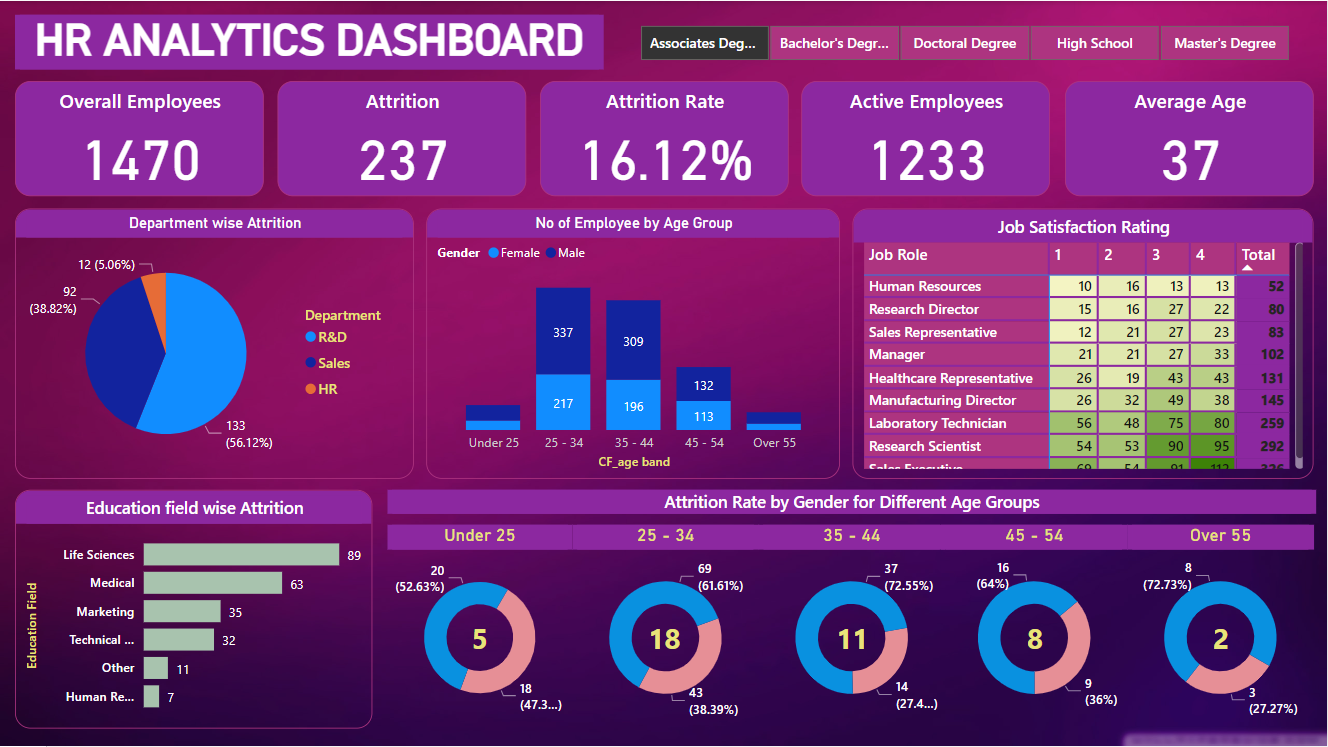

The page's visual inventory and layout, read from the dashboard file:
{"tool":"powerbi","page":{"name":"Page 1","canvas":[1280,720],"ordinal":0},"visuals":[{"type":"card","title":"Overall Employees","fields":{"Values":["Sum(HR data.Employee Count)"]},"box":[14.5,77.2,240,111],"z":0},{"type":"card","title":"Attrition","fields":{"Values":["Sum(HR data.AttritionCount)"]},"box":[267.7,77.2,240,111],"z":1},{"type":"card","title":"Attrition Rate","fields":{"Values":["HR data.Attrition Rate"]},"box":[521,77.2,240,111],"z":2},{"type":"card","title":"Active Employees","fields":{"Values":["HR data.Active Employees"]},"box":[773.1,77.2,240,111],"z":3},{"type":"card","title":"Average Age","fields":{"Values":["Avg(HR data.Age)"]},"box":[1027.5,77.2,240,111],"z":4},{"type":"pieChart","title":"Department wise Attrition","fields":{"Category":["HR data.Department"],"Y":["Sum(HR data.AttritionCount)"]},"box":[14.5,200.2,384.7,260.5],"z":5},{"type":"columnChart","title":"No of Employee by Age Group","fields":{"Category":["HR data.CF_age band"],"Y":["Sum(HR data.Employee Count)"],"Series":["HR data.Gender"]},"box":[411.3,200.2,399.2,260.5],"z":6},{"type":"pivotTable","title":"Job Satisfaction Rating","fields":{"Rows":["HR data.Job Role"],"Columns":["HR data.Job Satisfaction"],"Values":["Sum(HR data.Employee Count)"]},"box":[822.5,200.2,445,260.5],"z":7},{"type":"barChart","title":"Education field wise Attrition","fields":{"Category":["HR data.Education Field"],"Y":["Sum(HR data.AttritionCount)"]},"box":[14.5,471.6,344.9,230.4],"z":8},{"type":"donutChart","title":"Under 25","fields":{"Category":["HR data.Gender"],"Y":["Sum(HR data.AttritionCount)"],"Series":["HR data.CF_age band"]},"box":[373.9,505.3,178.5,199],"z":9},{"type":"textbox","title":"Attrition Rate by Gender for Different Age Groups","box":[373.9,471.6,896.1,22.9],"z":10},{"type":"donutChart","title":"25 - 34","fields":{"Category":["HR data.Gender"],"Y":["Sum(HR data.AttritionCount)"],"Series":["HR data.CF_age band"]},"box":[552.4,505.3,179.7,199],"z":11},{"type":"donutChart","title":"35 - 44","fields":{"Category":["HR data.Gender"],"Y":["Sum(HR data.AttritionCount)"],"Series":["HR data.CF_age band"]},"box":[732.1,505.3,179.7,199],"z":12},{"type":"donutChart","title":"45 - 54","fields":{"Category":["HR data.Gender"],"Y":["Sum(HR data.AttritionCount)"],"Series":["HR data.CF_age band"]},"box":[908.1,505.3,179.7,199],"z":13},{"type":"donutChart","title":"Over 55","fields":{"Category":["HR data.Gender"],"Y":["Sum(HR data.AttritionCount)"],"Series":["HR data.CF_age band"]},"box":[1087.8,505.3,179.7,199],"z":14},{"type":"card","fields":{"Values":["Sum(HR data.AttritionCount)"]},"box":[442.6,595.8,41,39.8],"z":15},{"type":"card","fields":{"Values":["Sum(HR data.AttritionCount)"]},"box":[609,595.8,63.9,39.8],"z":16},{"type":"card","fields":{"Values":["Sum(HR data.AttritionCount)"]},"box":[802,595.8,41,39.8],"z":17},{"type":"card","fields":{"Values":["Sum(HR data.AttritionCount)"]},"box":[978.1,595.8,41,39.8],"z":18},{"type":"card","fields":{"Values":["Sum(HR data.AttritionCount)"]},"box":[1157.8,595.8,41,39.8],"z":19},{"type":"textbox","title":"HR ANALYTICS DASHBOARD","box":[14.5,13.3,568,54.3],"z":20},{"type":"slicer","fields":{"Values":["HR data.Education"]},"box":[592.2,16.9,675.4,47],"z":21}]}

Visuals, with their boxes in screenshot pixels (x1, y1, x2, y2), scaled from the page's 1280x720 canvas onto the 1328x747 screenshot:
"Overall Employees" card: [x1=15, y1=80, x2=264, y2=195]
"Attrition" card: [x1=278, y1=80, x2=527, y2=195]
"Attrition Rate" card: [x1=541, y1=80, x2=790, y2=195]
"Active Employees" card: [x1=802, y1=80, x2=1051, y2=195]
"Average Age" card: [x1=1066, y1=80, x2=1315, y2=195]
"Department wise Attrition" pieChart: [x1=15, y1=208, x2=414, y2=478]
"No of Employee by Age Group" columnChart: [x1=427, y1=208, x2=841, y2=478]
"Job Satisfaction Rating" pivotTable: [x1=853, y1=208, x2=1315, y2=478]
"Education field wise Attrition" barChart: [x1=15, y1=489, x2=373, y2=728]
"Under 25" donutChart: [x1=388, y1=524, x2=573, y2=731]
"Attrition Rate by Gender for Different Age Groups" textbox: [x1=388, y1=489, x2=1318, y2=513]
"25 - 34" donutChart: [x1=573, y1=524, x2=760, y2=731]
"35 - 44" donutChart: [x1=760, y1=524, x2=946, y2=731]
"45 - 54" donutChart: [x1=942, y1=524, x2=1129, y2=731]
"Over 55" donutChart: [x1=1129, y1=524, x2=1315, y2=731]
card - Sum(HR data.AttritionCount): [x1=459, y1=618, x2=502, y2=659]
card - Sum(HR data.AttritionCount): [x1=632, y1=618, x2=698, y2=659]
card - Sum(HR data.AttritionCount): [x1=832, y1=618, x2=875, y2=659]
card - Sum(HR data.AttritionCount): [x1=1015, y1=618, x2=1057, y2=659]
card - Sum(HR data.AttritionCount): [x1=1201, y1=618, x2=1244, y2=659]
"HR ANALYTICS DASHBOARD" textbox: [x1=15, y1=14, x2=604, y2=70]
slicer - HR data.Education: [x1=614, y1=18, x2=1315, y2=66]
